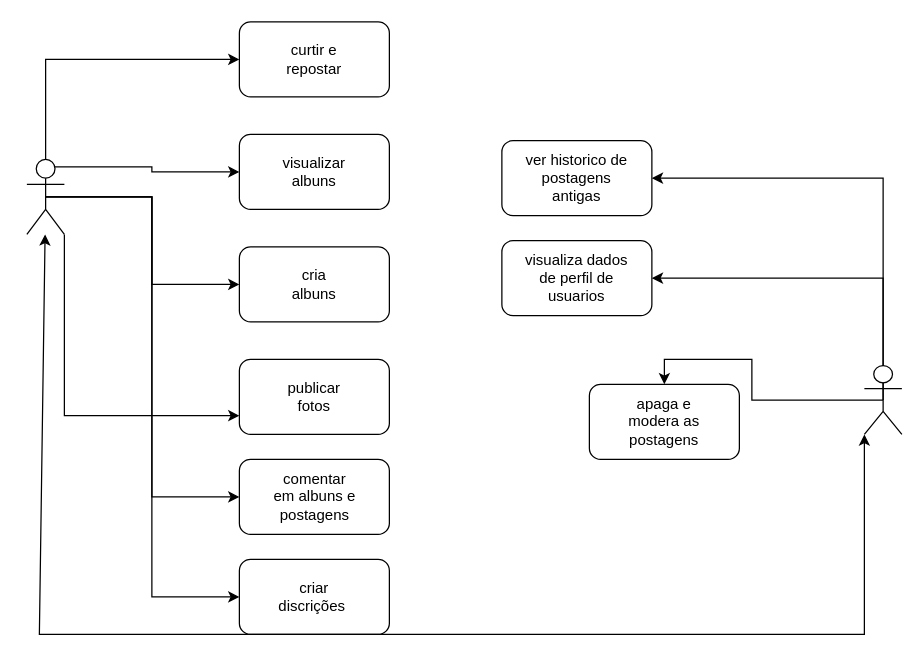
Image size: 924x668. Some labels were removed from this diagram. The shapes that lost their labels are listed below. From the top down, each one's centre as x and y in pixels, then its label:
the point at 45,196: usuario
the point at 882,399: ADM
